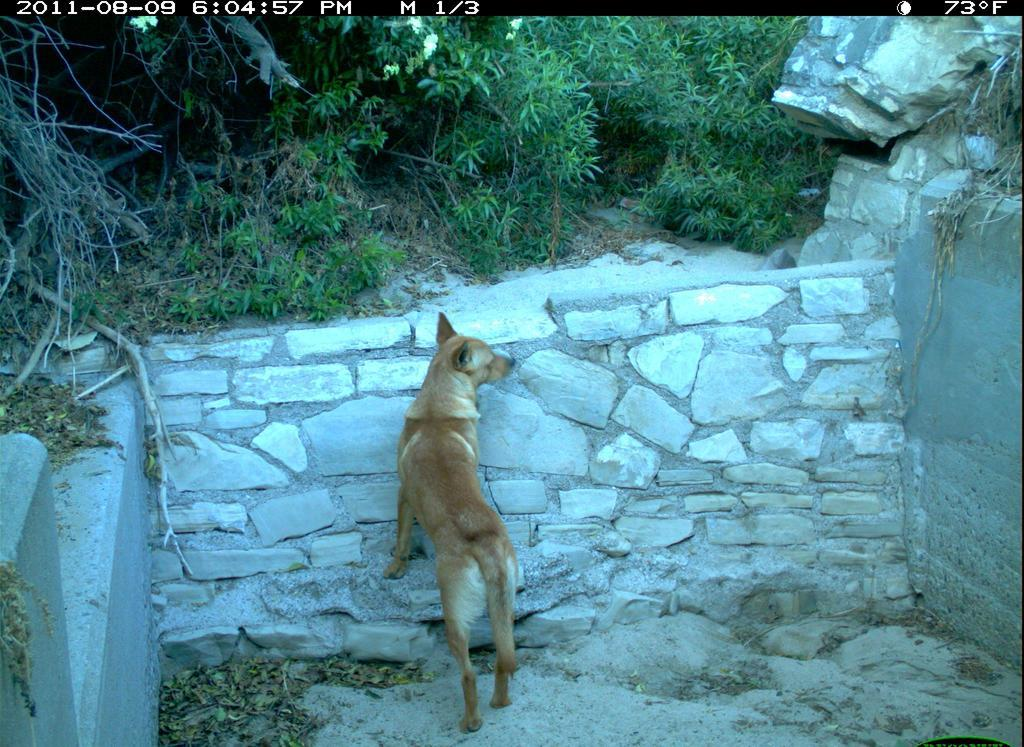dog: (379, 308, 555, 743)
